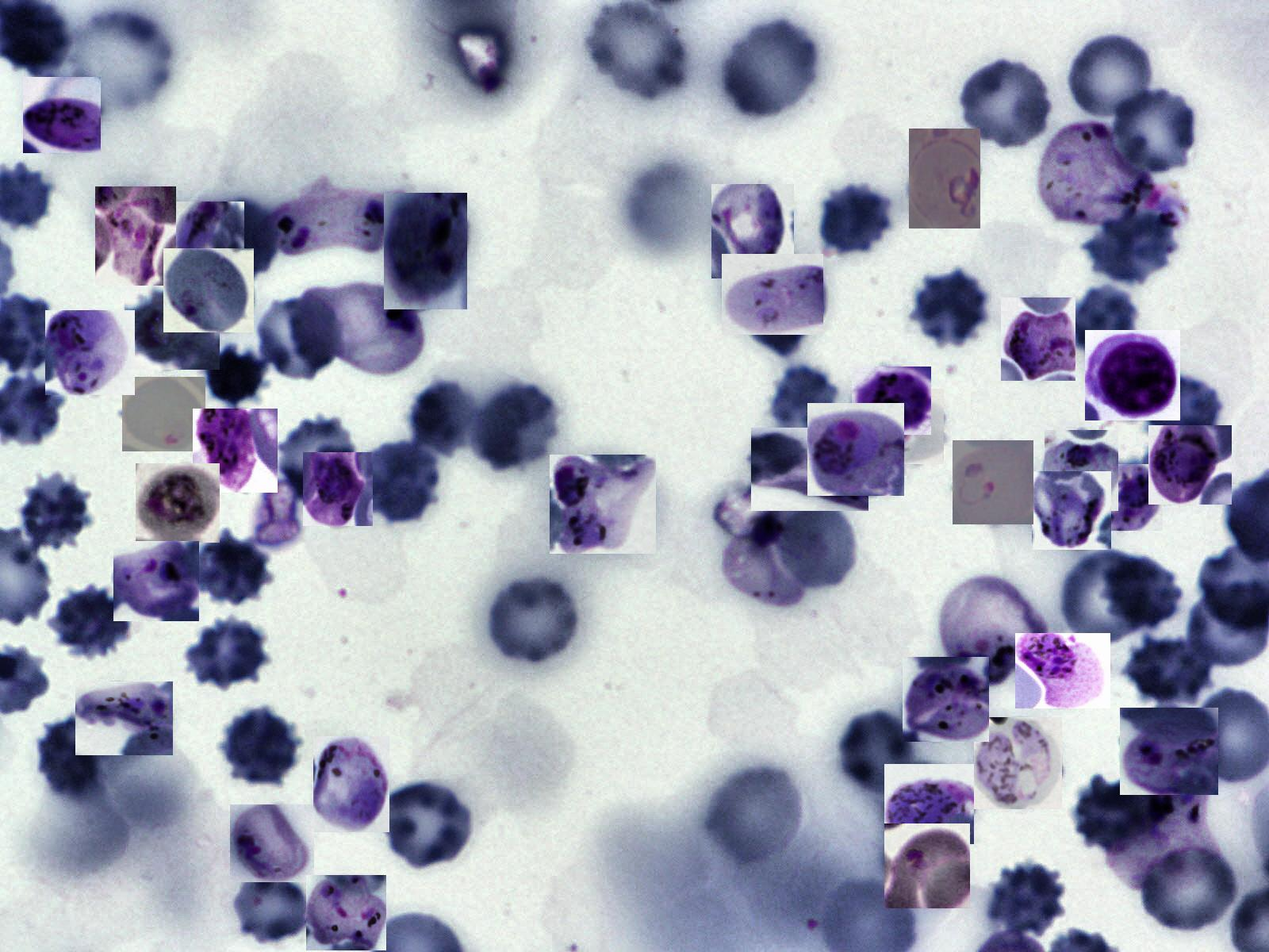Infected: (1037, 124, 1187, 225), (1106, 777, 1217, 889), (934, 574, 1043, 686), (257, 176, 406, 257), (298, 286, 424, 376), (550, 455, 656, 554), (721, 509, 825, 608), (751, 428, 868, 511), (384, 193, 467, 309), (807, 403, 904, 496), (1085, 330, 1180, 420), (1120, 708, 1218, 795), (95, 186, 176, 286), (723, 254, 823, 335), (974, 717, 1062, 809), (125, 286, 220, 370), (711, 184, 794, 278), (45, 310, 135, 395), (163, 248, 254, 332), (903, 657, 989, 742), (884, 823, 970, 908), (313, 736, 389, 832), (75, 681, 173, 755), (884, 764, 974, 844), (193, 409, 278, 493), (1015, 633, 1110, 708), (909, 129, 980, 228), (113, 541, 199, 621), (953, 441, 1033, 525), (136, 463, 220, 543), (1148, 425, 1232, 505), (230, 804, 314, 882), (1032, 471, 1111, 550), (174, 202, 244, 290), (1001, 298, 1075, 381), (122, 377, 205, 451), (306, 875, 386, 950), (23, 77, 101, 153), (1045, 430, 1118, 511), (866, 389, 944, 464), (852, 367, 931, 435), (303, 452, 373, 526), (1093, 464, 1163, 531)
Uninfected: (719, 17, 821, 121), (704, 765, 805, 866), (585, 1, 687, 101), (481, 573, 584, 668), (956, 56, 1057, 150), (374, 778, 477, 870), (1135, 846, 1233, 939), (1063, 31, 1161, 123), (1106, 83, 1202, 176), (469, 380, 563, 473), (1056, 554, 1147, 646), (252, 294, 342, 380), (837, 711, 922, 798), (359, 440, 443, 526), (1083, 213, 1177, 288), (776, 500, 856, 588), (48, 582, 135, 660), (1141, 372, 1226, 451), (276, 416, 358, 497), (909, 271, 992, 350), (190, 530, 274, 608), (219, 708, 301, 787), (185, 616, 271, 691), (816, 182, 897, 261), (1127, 634, 1217, 704), (1104, 554, 1187, 626), (1066, 285, 1144, 361), (207, 198, 278, 281), (1075, 778, 1156, 850), (18, 474, 94, 550), (232, 869, 306, 946), (40, 720, 110, 801), (768, 367, 842, 439), (748, 275, 811, 358), (949, 449, 1025, 515), (994, 866, 1061, 934), (412, 382, 476, 452), (201, 342, 270, 405)
